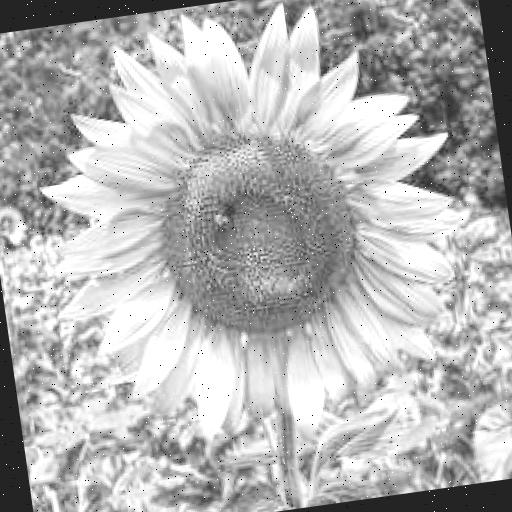sunflower: (23, 0, 482, 467)
